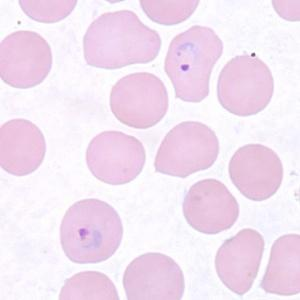Infected: (165, 25, 224, 103), (59, 198, 124, 265)
Uninfected: (81, 10, 161, 69), (154, 121, 218, 178), (215, 56, 274, 116), (85, 128, 147, 185), (215, 227, 262, 298), (108, 72, 167, 128), (183, 175, 238, 235), (122, 251, 186, 300), (227, 144, 282, 200), (0, 29, 52, 88), (0, 118, 45, 176), (263, 233, 300, 297)
